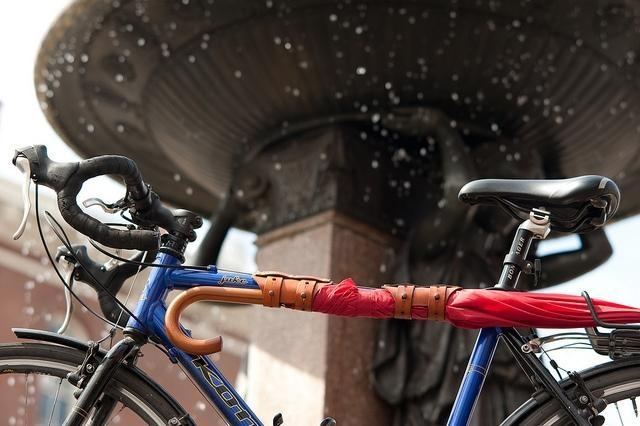bicycle: (1, 159, 638, 420)
